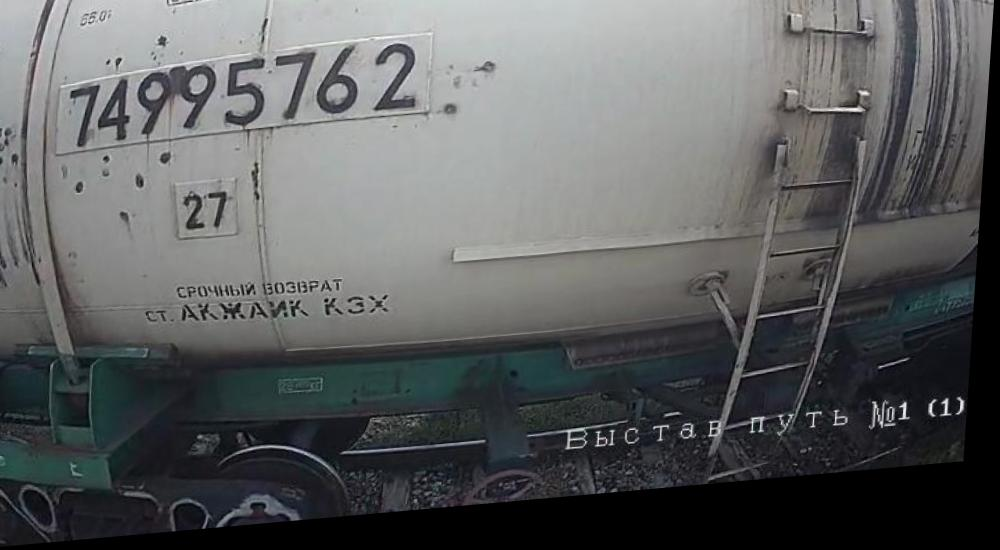Wagon-number: (62, 43, 427, 158)
